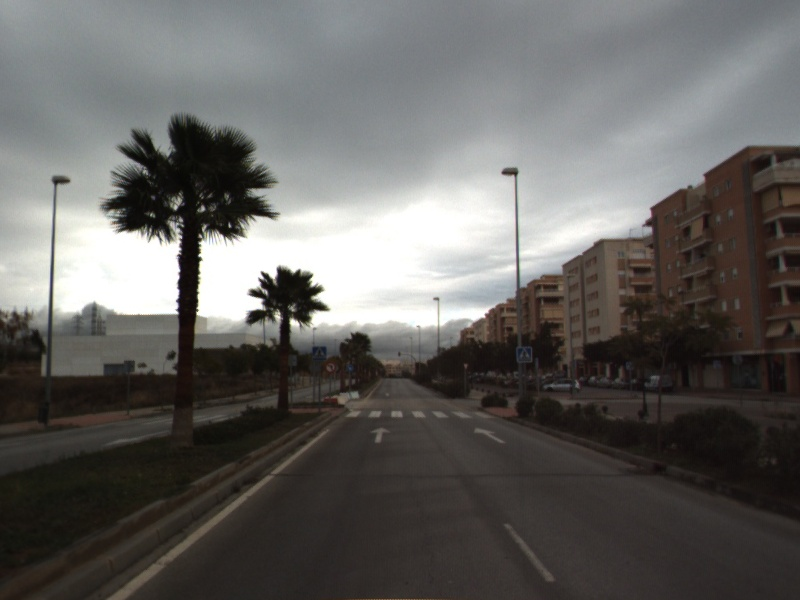STRAIGHT: (472, 426, 508, 445), (368, 425, 393, 445)
